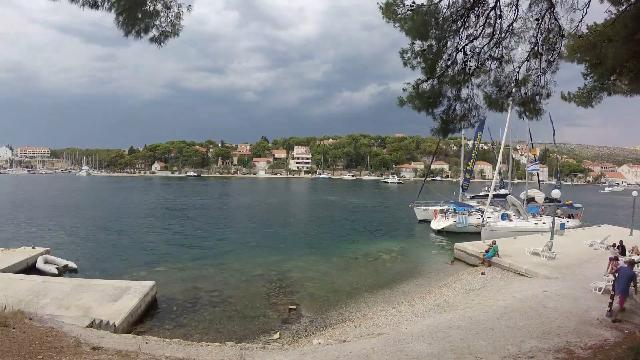speedboat: (378, 171, 406, 187), (183, 169, 204, 181)
